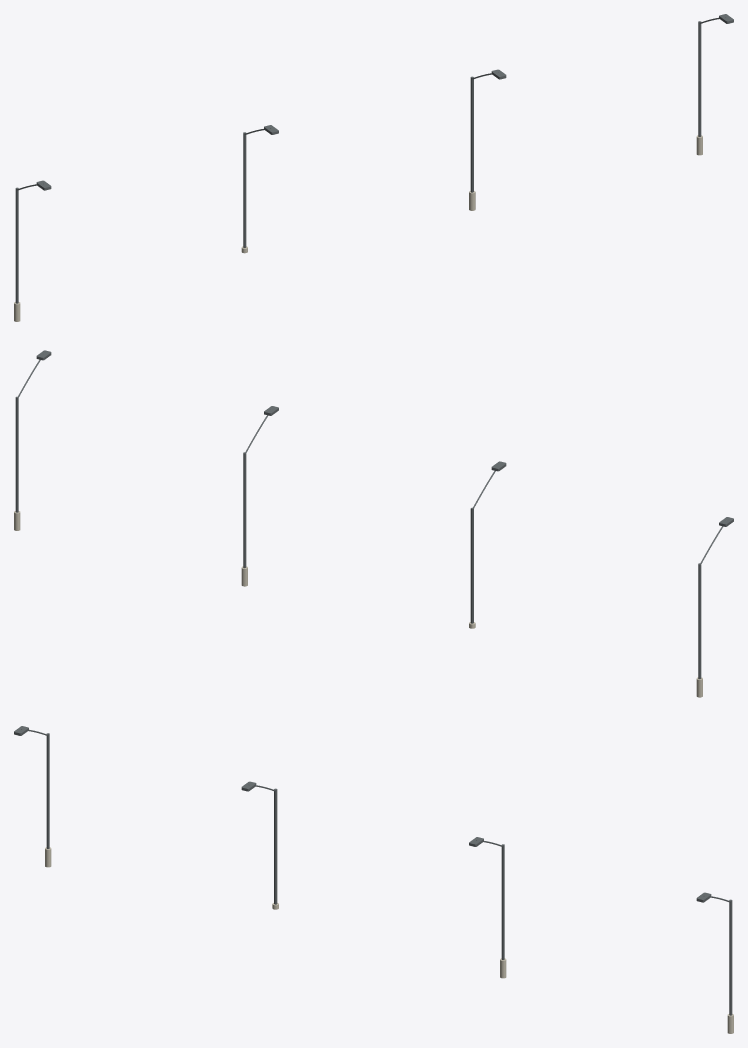
The picture shows the model from 3 angles, top to bottom: view 1: azimuth 30°, elevation 25°; view 2: azimuth 150°, elevation 25°; view 3: azimuth 330°, elevation 25°; orthographic projection.
Parts seen in each view (by area): view 1: buildings_s_-6_0_Dark_Metal; view 2: buildings_s_-6_0_Dark_Metal; view 3: buildings_s_-6_0_Dark_Metal.
Boxes of the visible parts, x1,y1,x2,y2 form: buildings_s_-6_0_Dark_Metal: (15, 14, 733, 303); buildings_s_-6_0_Dark_Metal: (15, 350, 733, 679); buildings_s_-6_0_Dark_Metal: (14, 726, 732, 1015).
Bounding box in the file's own units: 81.9 × 17.75 × 6.69.
